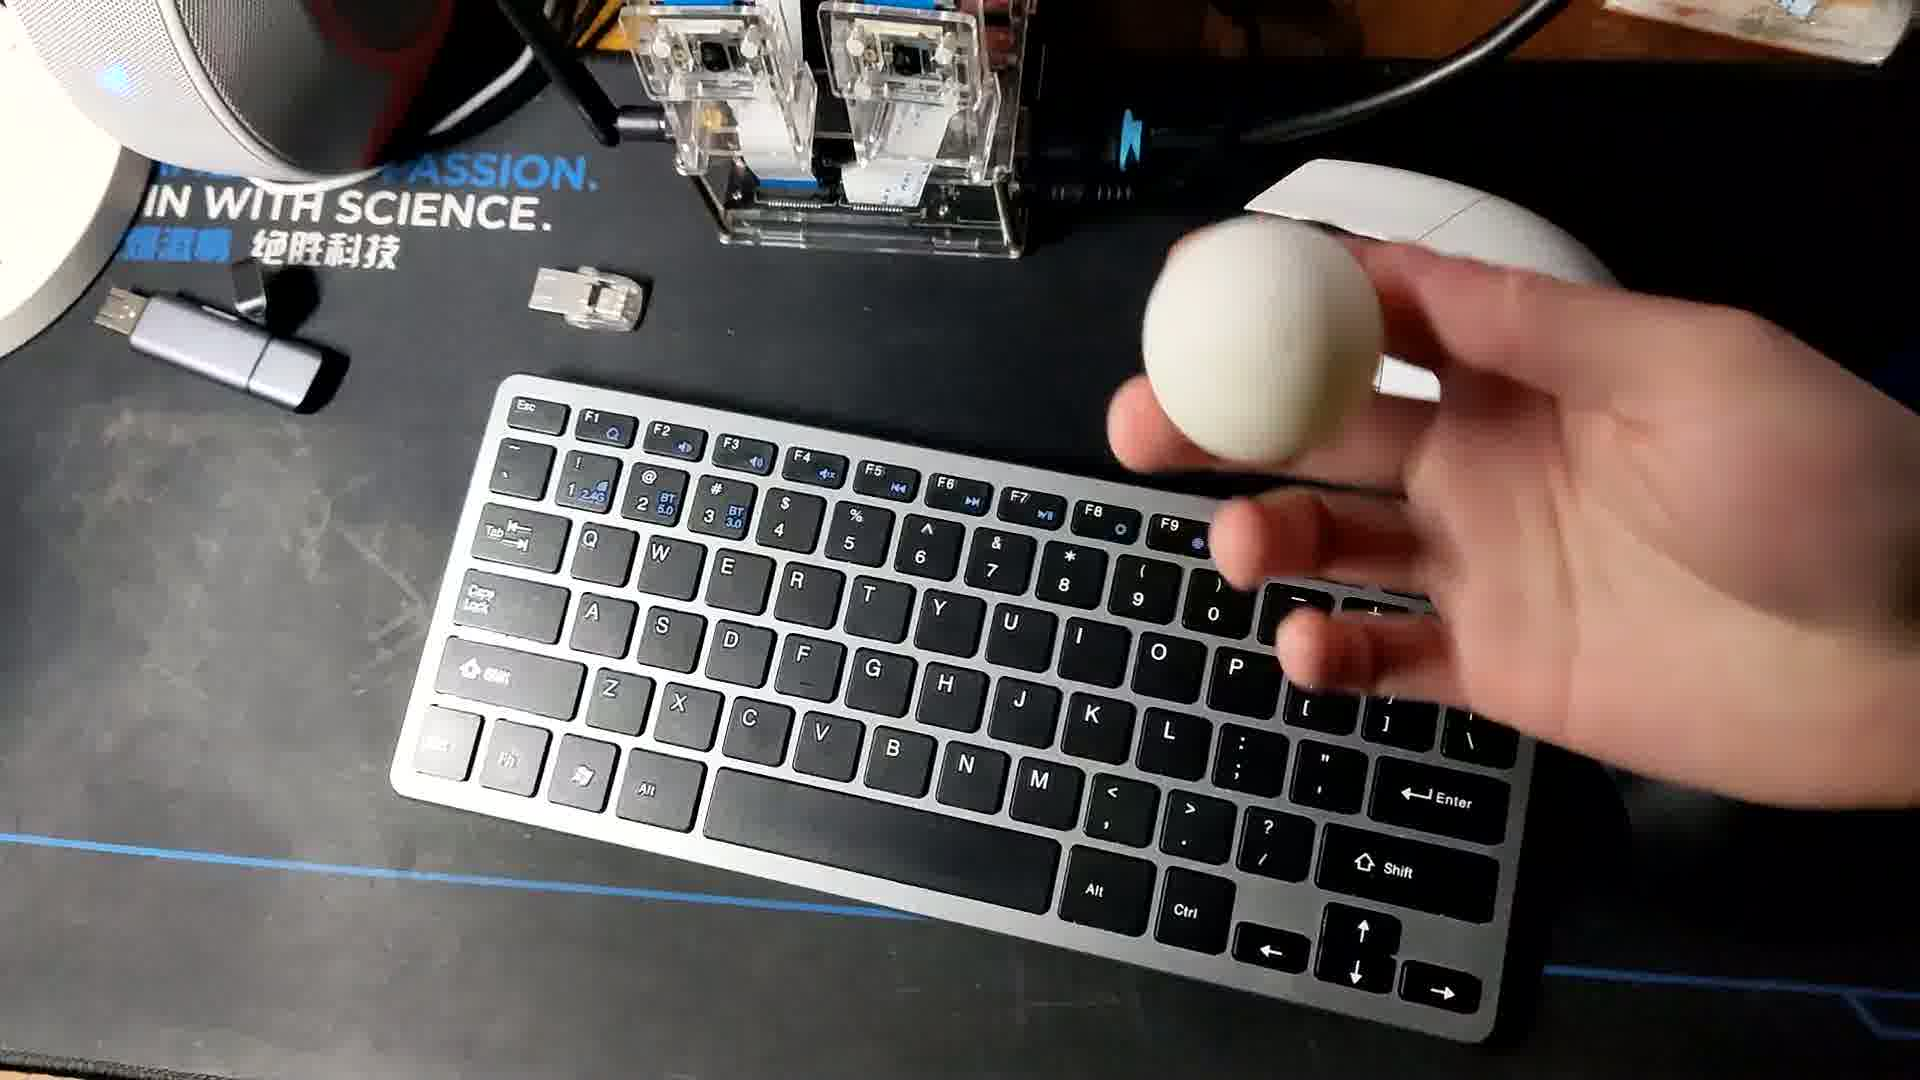Ball: (1146, 220, 1389, 468)
